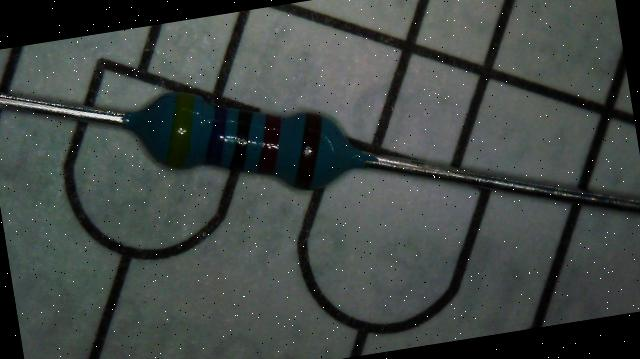black: (220, 106, 260, 172)
brown: (284, 110, 332, 190)
red: (250, 112, 290, 175)
resistor: (112, 29, 373, 236)
violet: (198, 105, 236, 166)
yellow: (157, 91, 206, 169)
